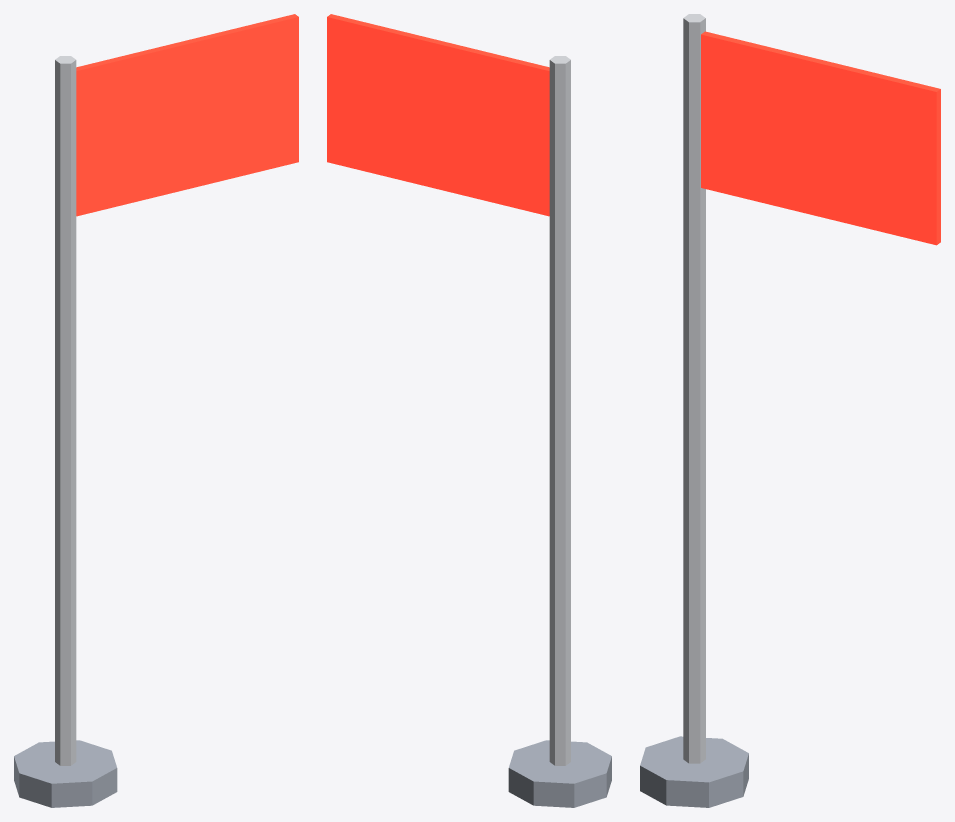
The model's file is lunar-flag.glb.
The picture shows the model from 3 angles, left to right: view 1: azimuth 30°, elevation 25°; view 2: azimuth 150°, elevation 25°; view 3: azimuth 330°, elevation 25°; orthographic projection. The views are drawn at different scales.
Parts seen in each view (by area): view 1: flag; view 2: flag; view 3: flag.
Part boxes in pixels (x1,y1,x2,y2): flag: [14, 14, 298, 807]; flag: [327, 14, 611, 807]; flag: [640, 14, 940, 807].
Size of the model in its own units: 1.2 by 3 by 0.4.
